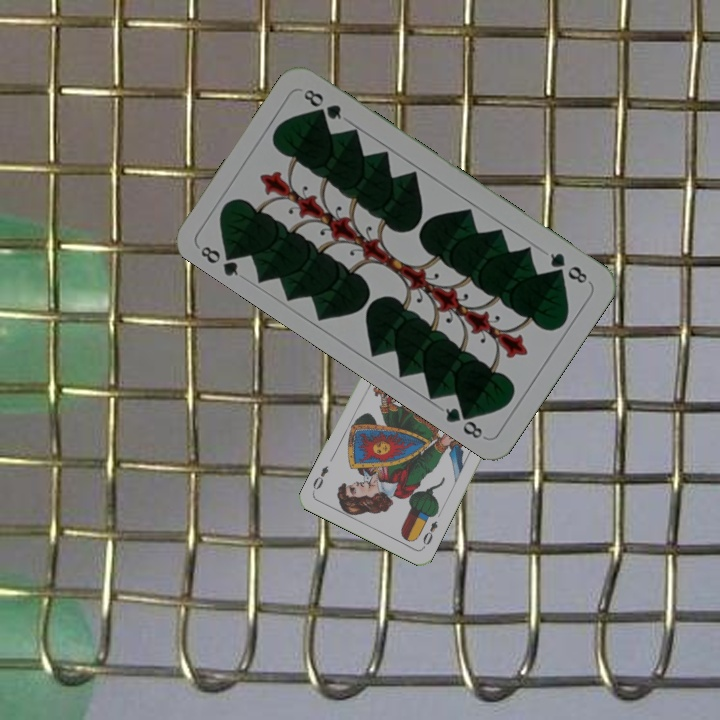EO: (419, 517, 440, 551)
G8: (196, 242, 243, 279), (546, 249, 590, 287)
